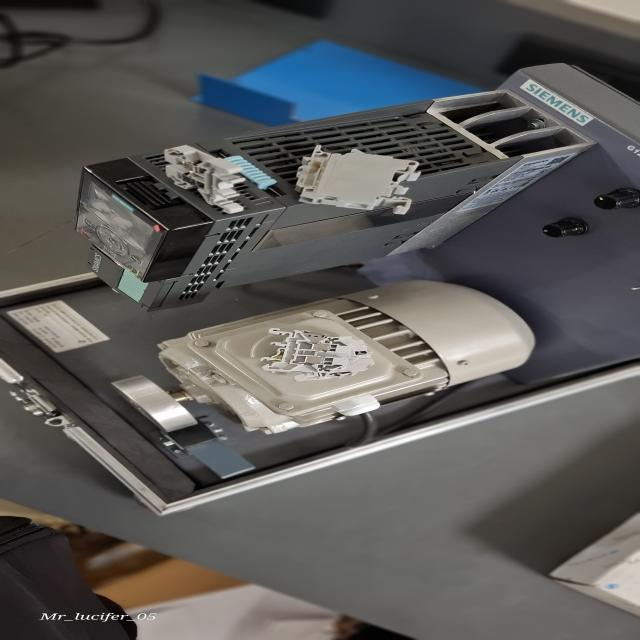Pass: (255, 327, 369, 383), (160, 143, 249, 214)
